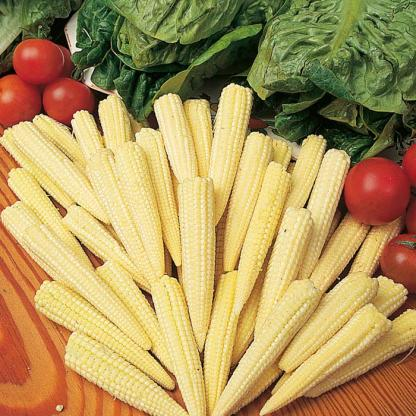---: (13, 122, 357, 374)
